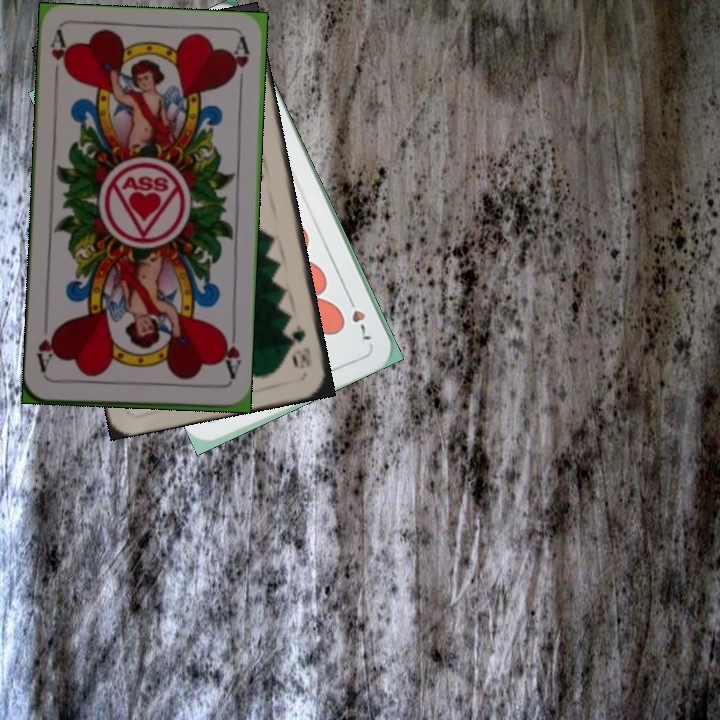G10: (288, 320, 315, 370)
H7: (342, 290, 374, 345)
HA: (45, 28, 72, 88), (217, 326, 244, 385)
